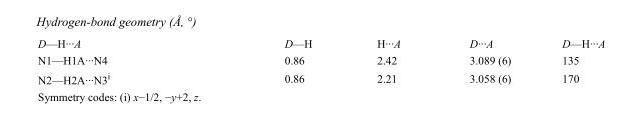table: (37, 36, 604, 85)
table column: (37, 36, 196, 85), (196, 36, 343, 85), (434, 36, 535, 85), (343, 36, 434, 85), (535, 36, 604, 85)
table row: (37, 51, 604, 68), (37, 68, 604, 85), (37, 36, 604, 51)
